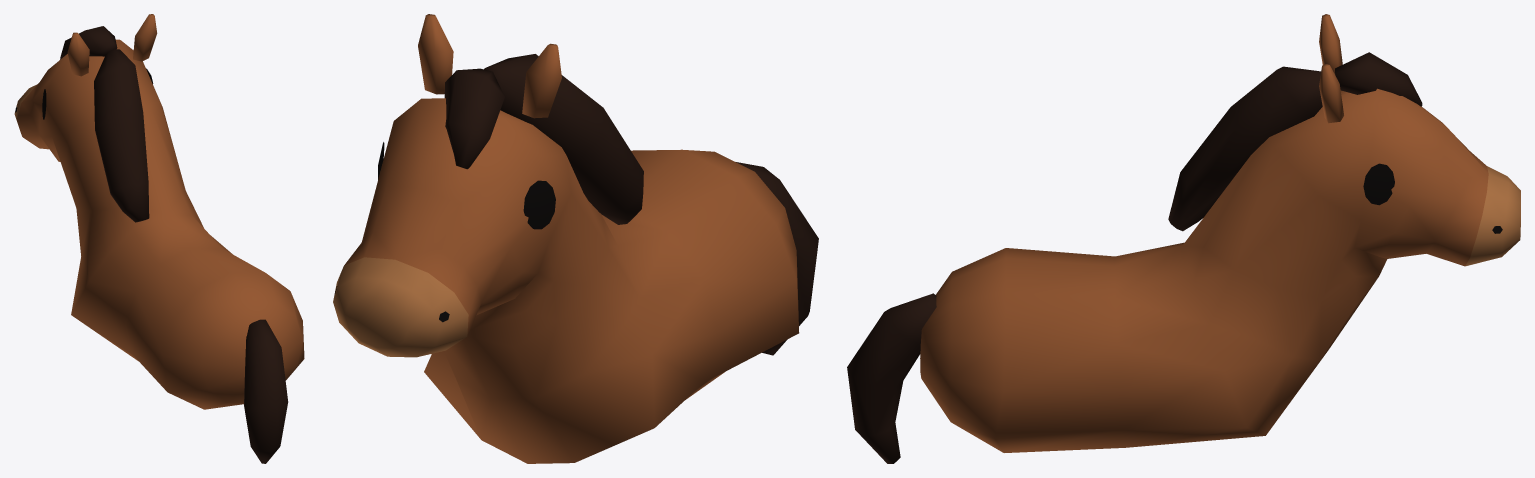
File: animal_horse.obj
3 renders of one model, left to right at view 1: azimuth 30°, elevation 25°; view 2: azimuth 150°, elevation 25°; view 3: azimuth 270°, elevation 25°, orthographic. The views are drawn at different scales.
Parts seen in each view (by area): view 1: animal_horse; view 2: animal_horse; view 3: animal_horse.
Boxes of the visible parts, x1,y1,x2,y2 form: animal_horse: (14,14,304,463); animal_horse: (333,14,818,463); animal_horse: (847,14,1520,463).
Size of the model in its own units: 0.653 by 1.38 by 1.97.
